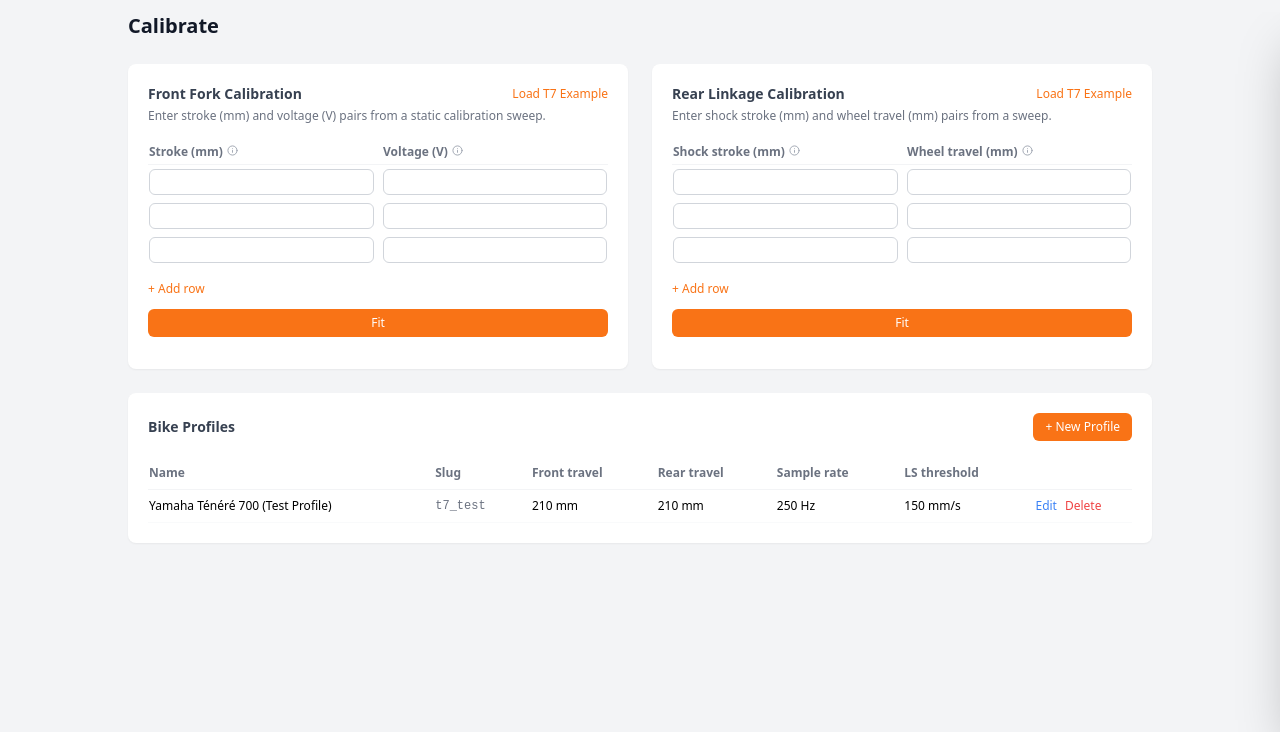
Test: CalibratePage › shows an error when fewer than 2 valid front data points are entered
The image size is (1280, 732).
Leave all rows blank and click Fit
Click the button "Fit" below "Front Fork Calibration": (378, 323) x1=148 y1=309 x2=608 y2=337
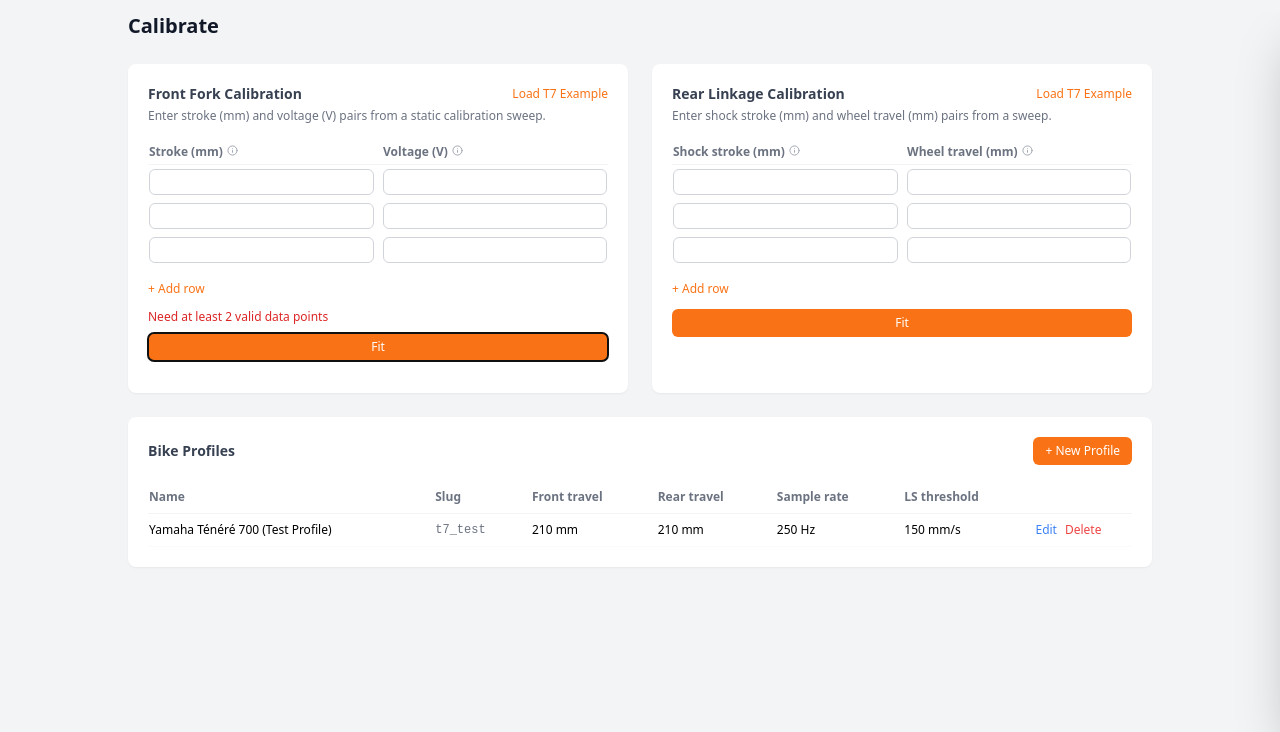
Now the text "Need at least 2 valid data points" is shown, box x1=148 y1=308 x2=328 y2=325
